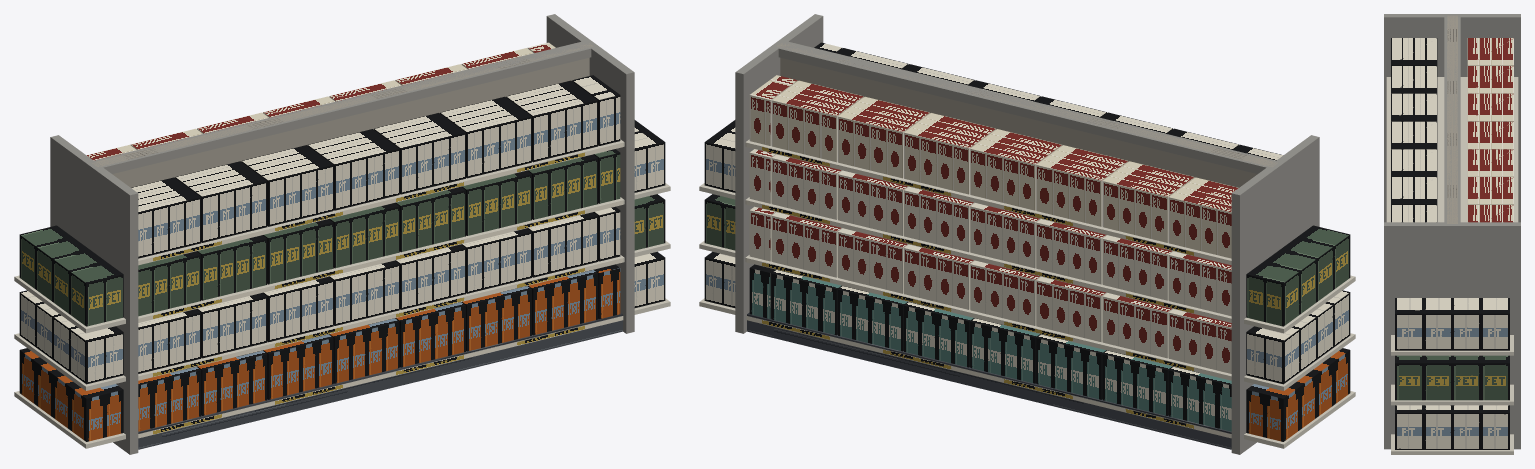
The model's file is COM_Gondola_Grocery_D.glb.
3 views of the same model, side by side, from view 1: azimuth 30°, elevation 25°; view 2: azimuth 150°, elevation 25°; view 3: azimuth 270°, elevation 25° (orthographic). The views are drawn at different scales.
Visible parts, largest first — view 1: COM_Gondola_Grocery_D_Mesh; view 2: COM_Gondola_Grocery_D_Mesh; view 3: COM_Gondola_Grocery_D_Mesh.
Boxes of the visible parts, x1,y1,x2,y2 form: COM_Gondola_Grocery_D_Mesh: (14,14,670,454); COM_Gondola_Grocery_D_Mesh: (699,14,1355,454); COM_Gondola_Grocery_D_Mesh: (1384,14,1520,454).
Size of what is drawn, in the model's own units: 4.24 by 1.8 by 1.
Materials: 1 (1 with a texture image).
